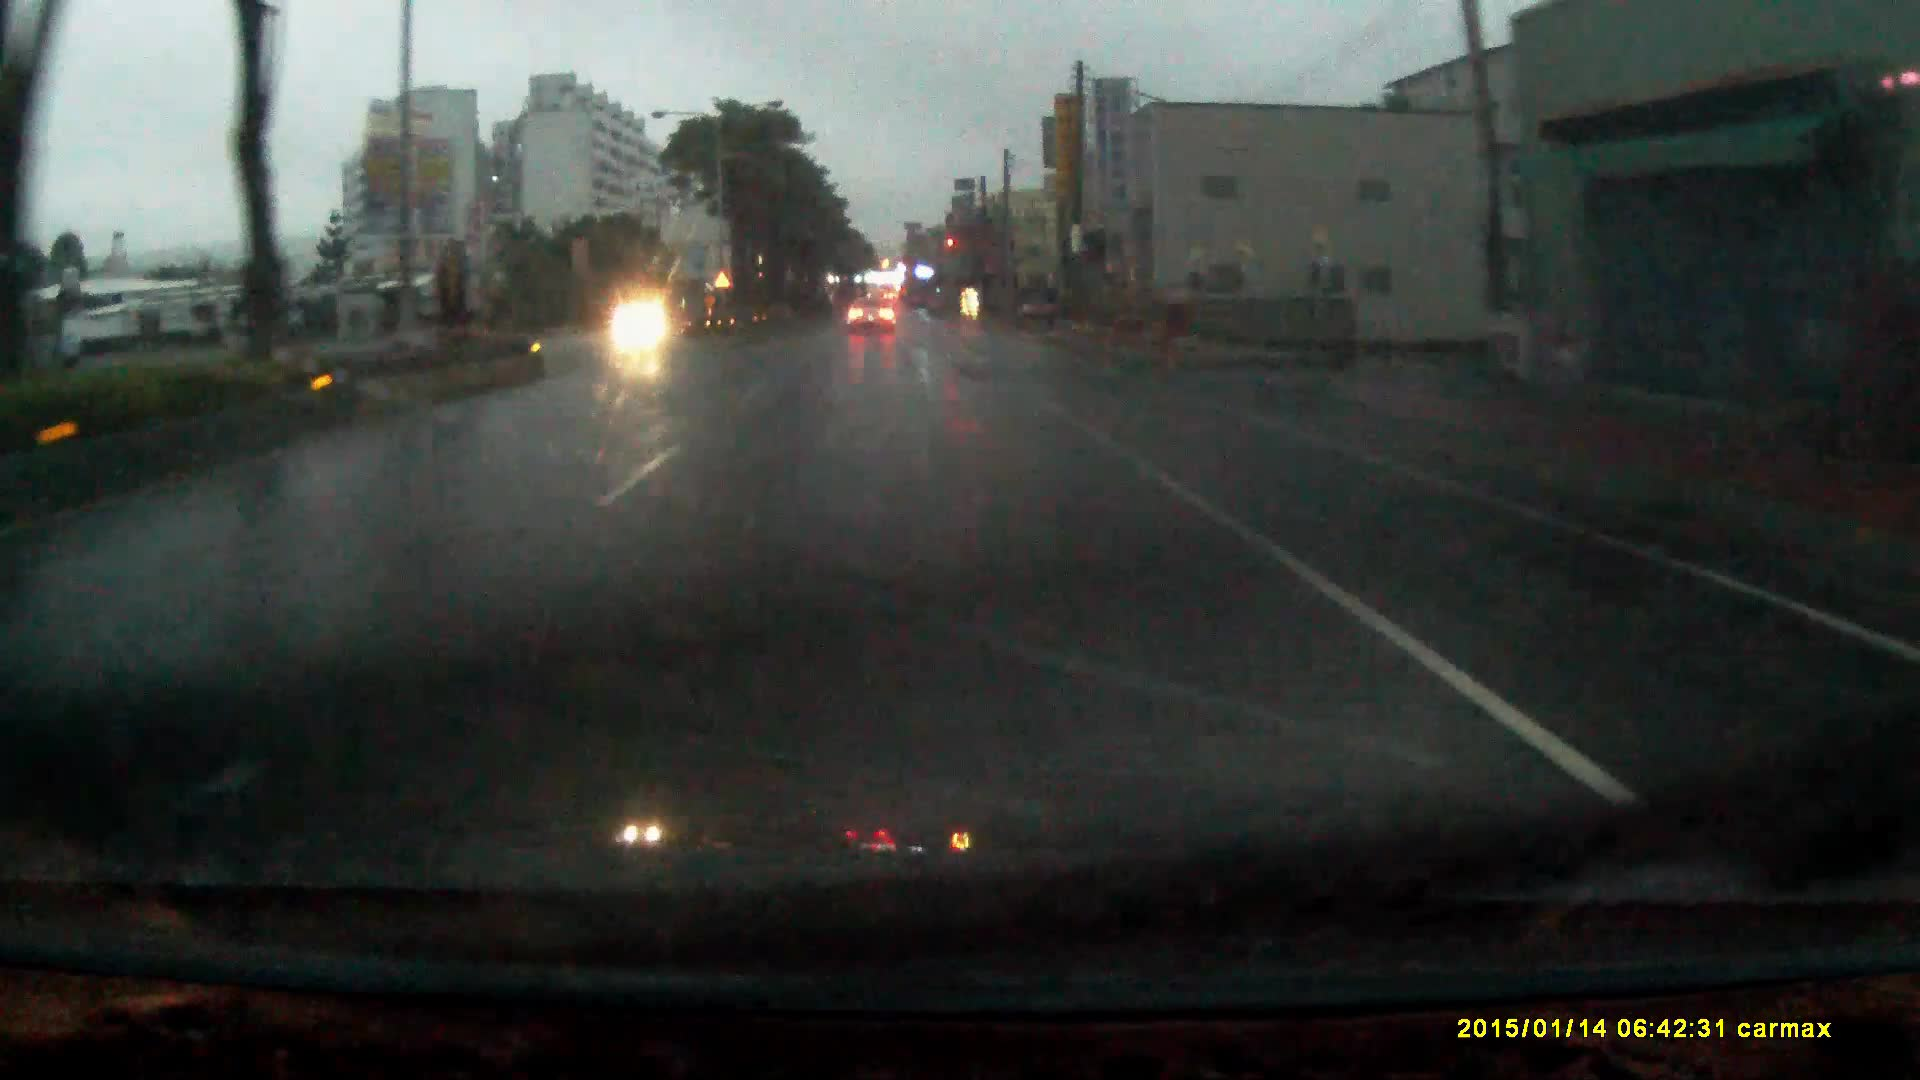vehicle: (847, 295, 898, 335), (1018, 286, 1055, 330)
